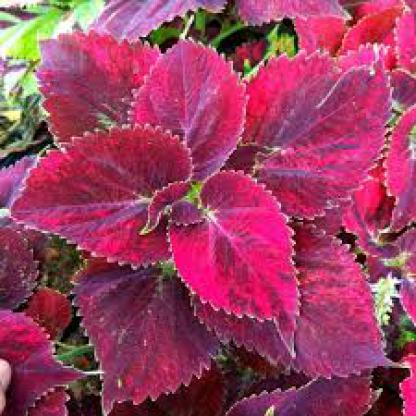Bunga Coleus: (25, 49, 395, 375)
